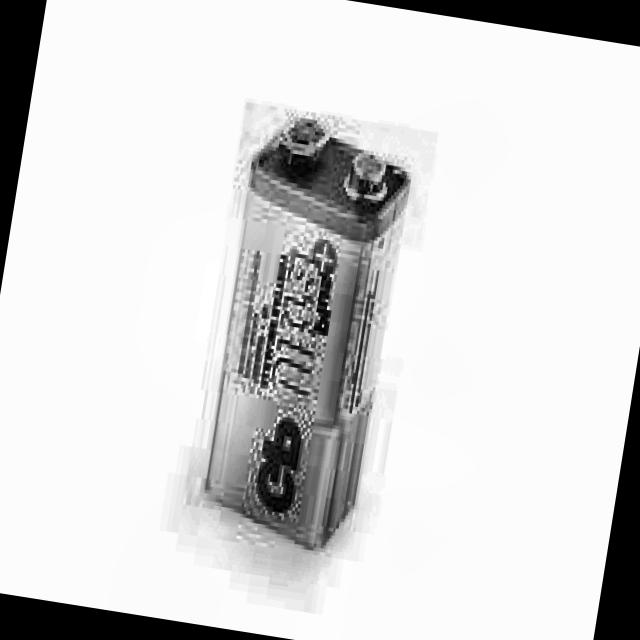Battery: (198, 115, 414, 546)
